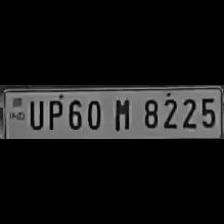0: (84, 97, 104, 131)
2: (178, 96, 196, 130), (160, 96, 176, 130)
5: (198, 95, 216, 129)
6: (64, 97, 82, 131)
8: (138, 94, 160, 130)
M: (108, 94, 134, 132)
P: (44, 97, 62, 131)
U: (26, 98, 44, 130)
